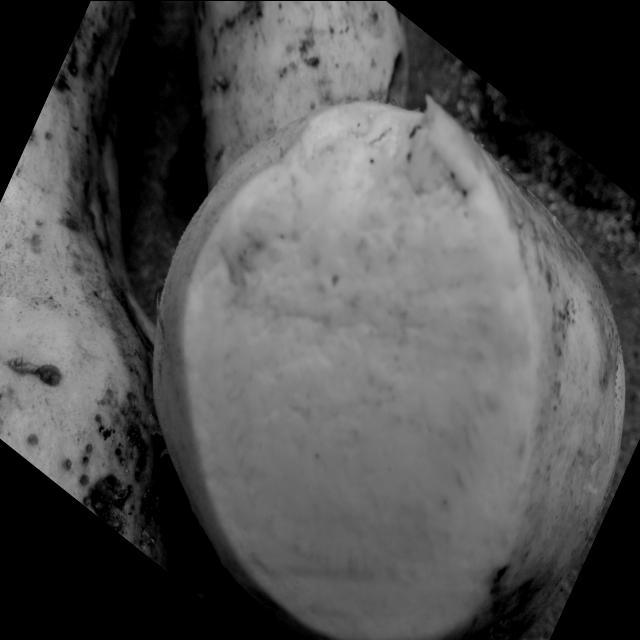Healthy Sweet Potato: (154, 102, 534, 638)
